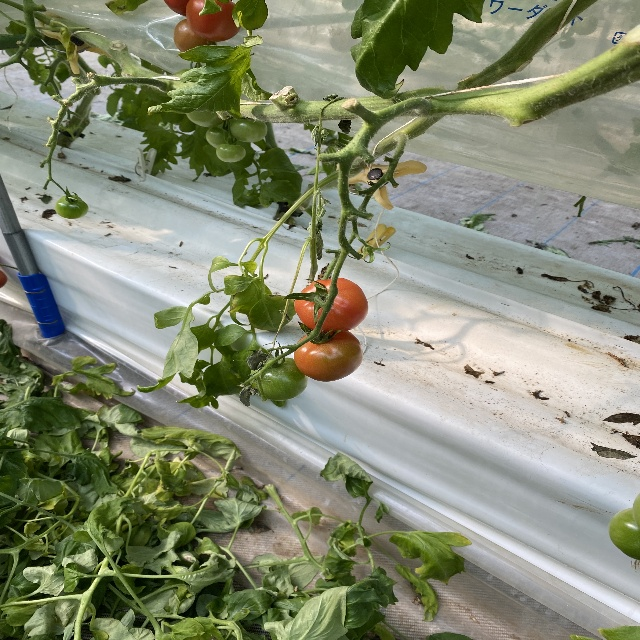l_fully_ripened: (294, 278, 370, 332), (185, 0, 242, 43)
l_green: (250, 357, 309, 401), (608, 507, 640, 561), (230, 117, 268, 143), (55, 194, 89, 219), (206, 128, 237, 148), (187, 112, 225, 128), (215, 143, 246, 162)
l_half_ripened: (293, 329, 363, 382), (173, 19, 219, 56)
